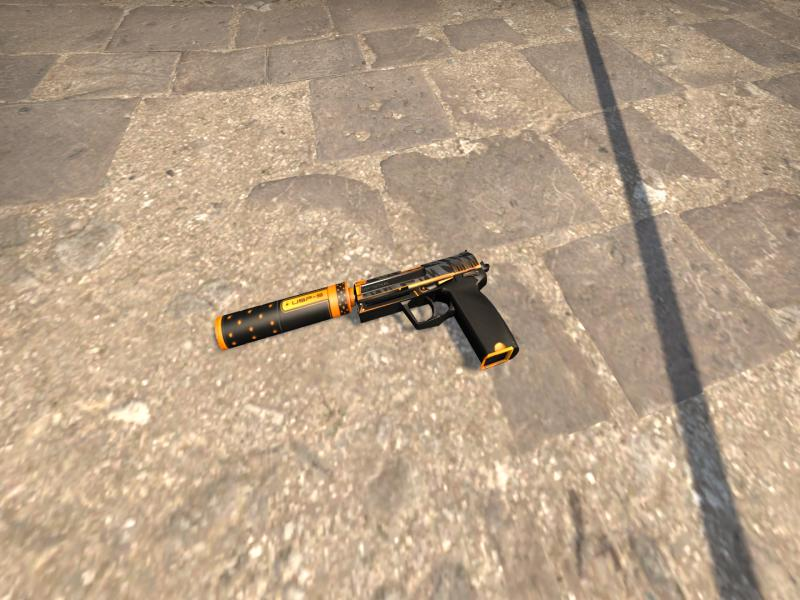USP: (215, 251, 519, 369)
